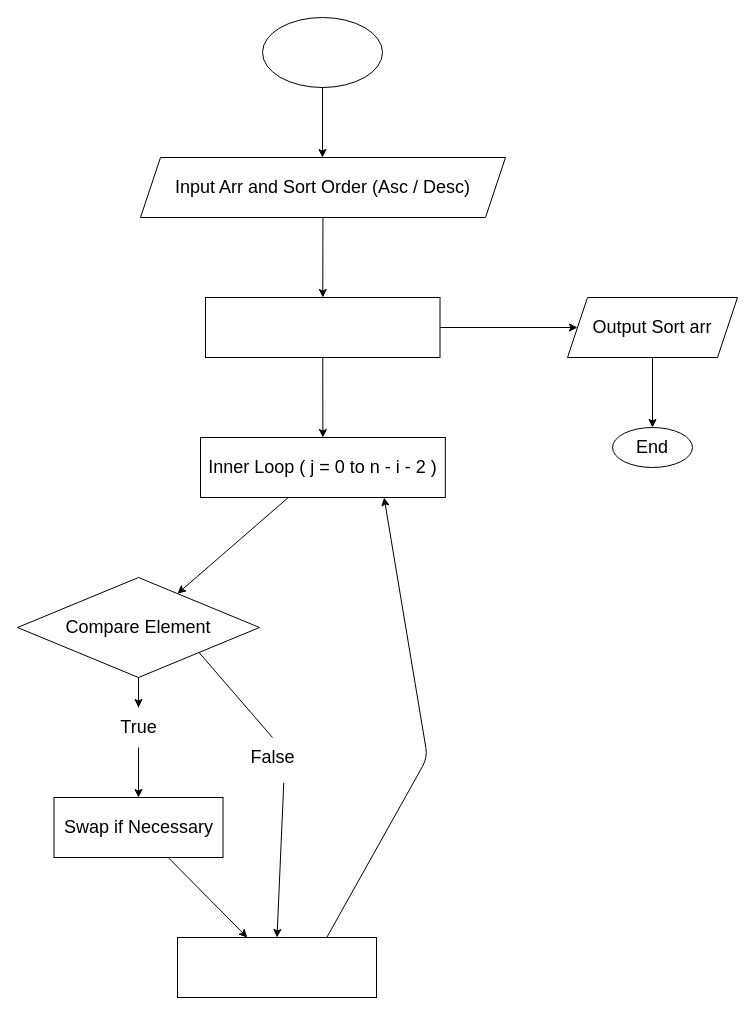
Some shapes in this 755 by 1015 pixel diagram are drawn without their labels. The shapes that lost their labels are listed below. From the top down, each one's box as (x1, y1, x2, y2) in pixels, then its label:
(262, 16, 382, 88): Start
(204, 296, 440, 358): Outer Loop ( i = 0 to n - 1 )
(176, 936, 376, 998): Repeat inner Loop
